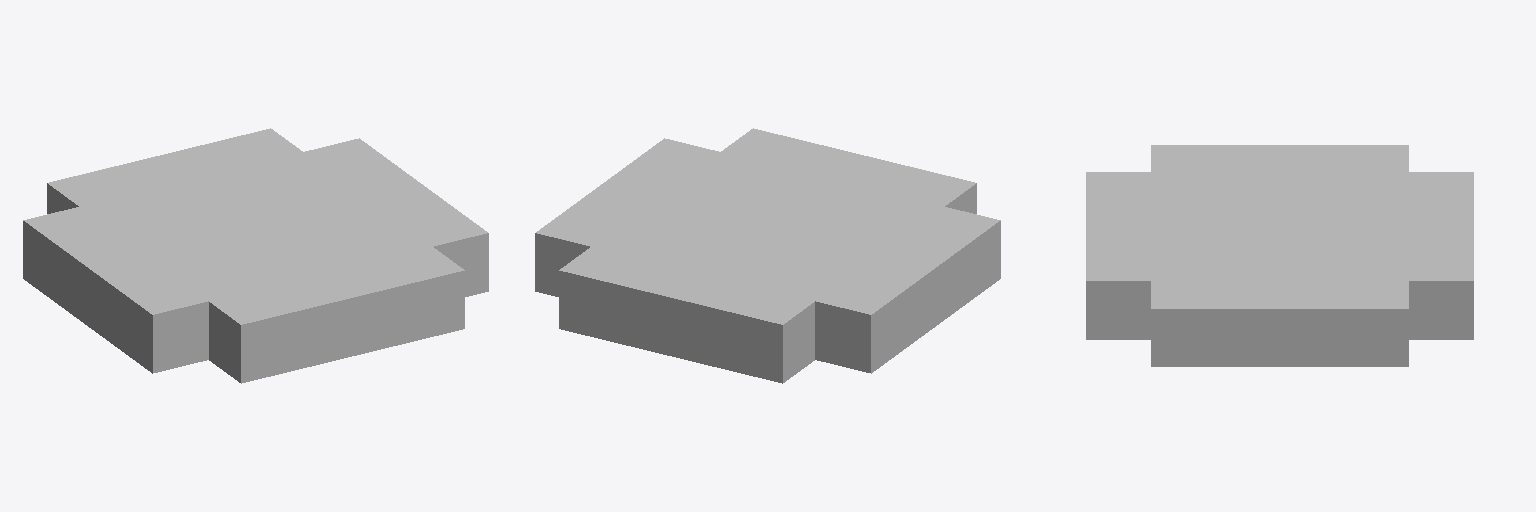
The model's file is darkLilypads1-0.obj.
The picture shows the model from 3 angles: view 1: azimuth 30°, elevation 25°; view 2: azimuth 150°, elevation 25°; view 3: azimuth 270°, elevation 25°; orthographic projection.
Visible parts, largest first — view 1: object 1; view 2: object 1; view 3: object 1.
Part boxes in pixels (left/top/right/bottom): object 1: left=23, top=128, right=488, bottom=383; object 1: left=535, top=128, right=1000, bottom=383; object 1: left=1086, top=145, right=1473, bottom=366.
Size of the model in its own units: 0.6 by 0.1 by 0.6.